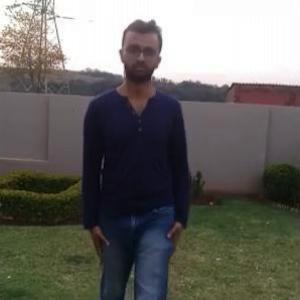follow: (76, 13, 196, 299)
